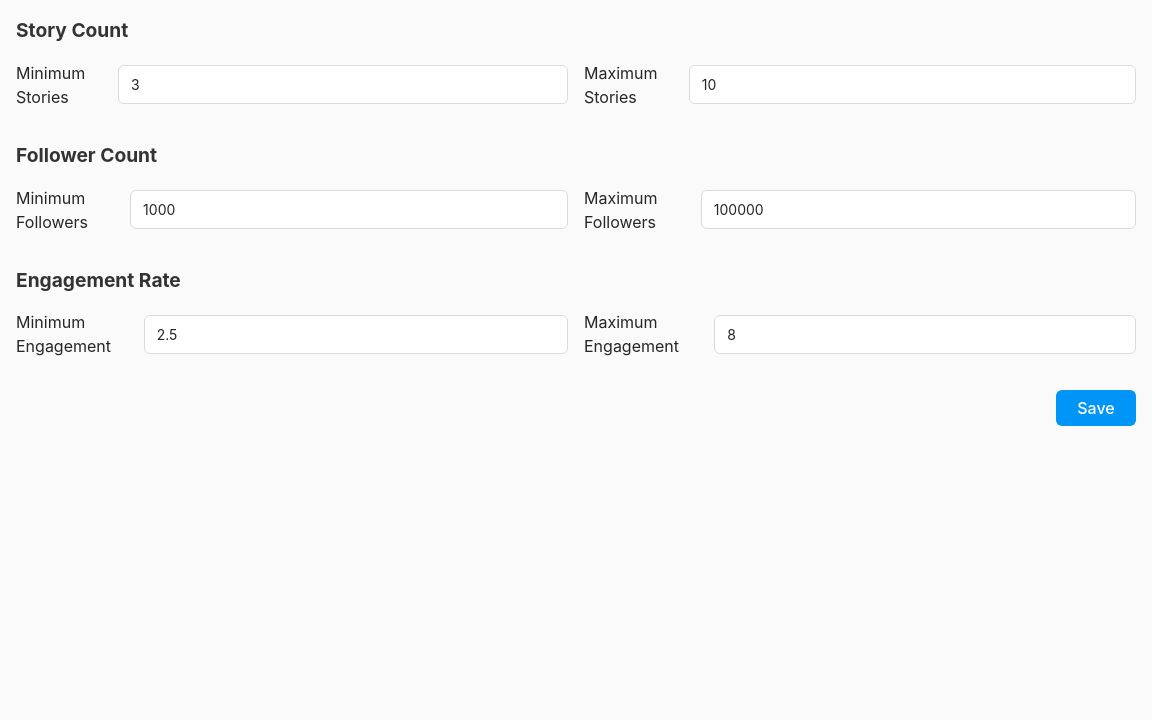
Test: StoryTargets Component › Persistence › shows error message when save fails
The width and height of the screenshot is (1152, 720).
Click the button "Save": coordinates (1096, 408) [1056,390,1136,426]
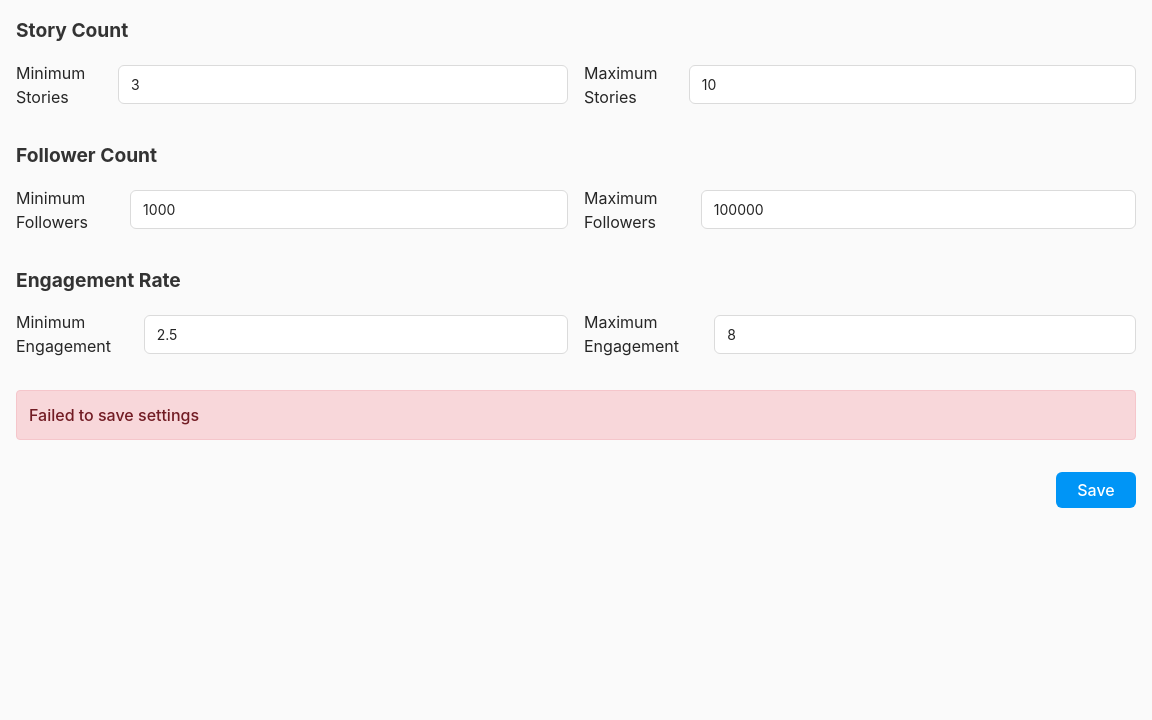
Check: the text "Failed to save settings" is shown, box [16,390,1136,440]
